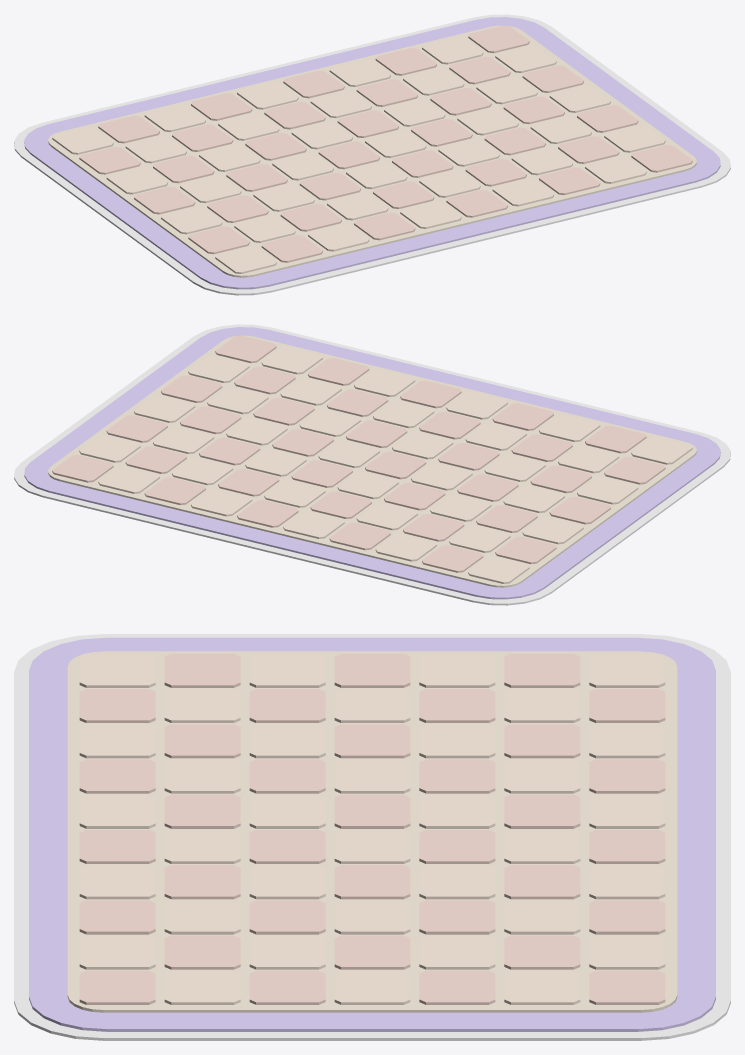
The model's file is LobbyPatio.obj.
3 renders of one model, top to bottom at view 1: azimuth 30°, elevation 25°; view 2: azimuth 150°, elevation 25°; view 3: azimuth 270°, elevation 25°, orthographic. The views are drawn at different scales.
Parts seen in each view (by area): view 1: TileA, TileB, Band, Grout, Stripe; view 2: TileA, TileB, Band, Grout, Stripe; view 3: TileA, TileB, Band, Grout, Stripe.
Part boxes in pixels (<box>): TileA: <box>52,36,665,273</box>; TileB: <box>79,25,692,262</box>; Band: <box>24,17,720,289</box>; Grout: <box>48,25,696,277</box>; Stripe: <box>14,14,730,295</box>; TileA: <box>79,346,692,583</box>; TileB: <box>52,335,665,572</box>; Band: <box>24,327,720,599</box>; Grout: <box>48,335,696,587</box>; Stripe: <box>14,324,730,605</box>; TileA: <box>79,653,665,1004</box>; TileB: <box>79,653,665,1004</box>; Band: <box>29,637,715,1031</box>; Grout: <box>67,651,677,1012</box>; Stripe: <box>14,634,730,1040</box>.
Bounding box in the file's own units: 32 × 0.4 × 24.
